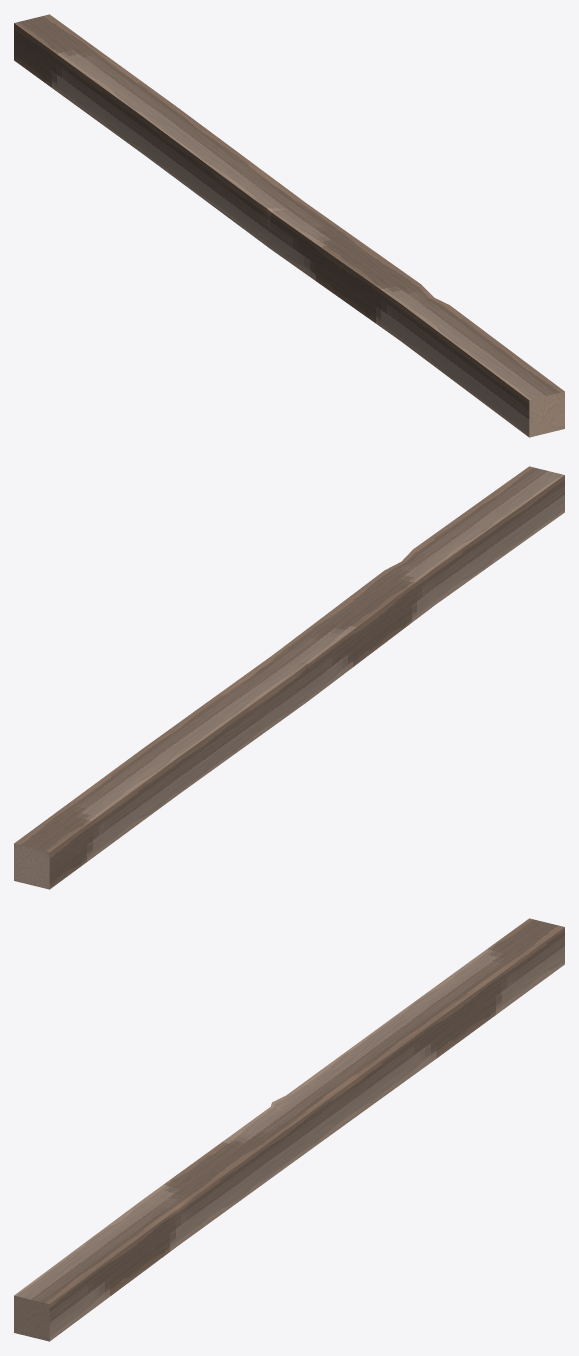
The model's file is SM_WoodBeam_01.fbx.
3 renders of one model, top to bottom at view 1: azimuth 30°, elevation 25°; view 2: azimuth 150°, elevation 25°; view 3: azimuth 330°, elevation 25°, orthographic.
Parts seen in each view (by area): view 1: SM_WoodBeam_01; view 2: SM_WoodBeam_01; view 3: SM_WoodBeam_01.
Part boxes in pixels (x1,y1,x2,y2): SM_WoodBeam_01: [14, 14, 564, 437]; SM_WoodBeam_01: [14, 466, 564, 889]; SM_WoodBeam_01: [14, 918, 564, 1341].
Size of the model in its own units: 21.55 by 500 by 21.28.
